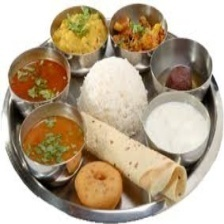sabzi: (108, 12, 167, 54)
